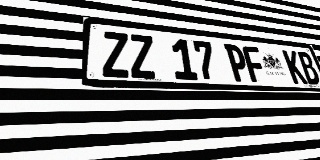1: (170, 38, 198, 80)
7: (191, 40, 219, 81)
B: (296, 51, 320, 85)
F: (241, 46, 269, 83)
K: (282, 50, 308, 84)
P: (224, 44, 251, 82)
Z: (102, 31, 130, 78), (128, 34, 157, 79)
